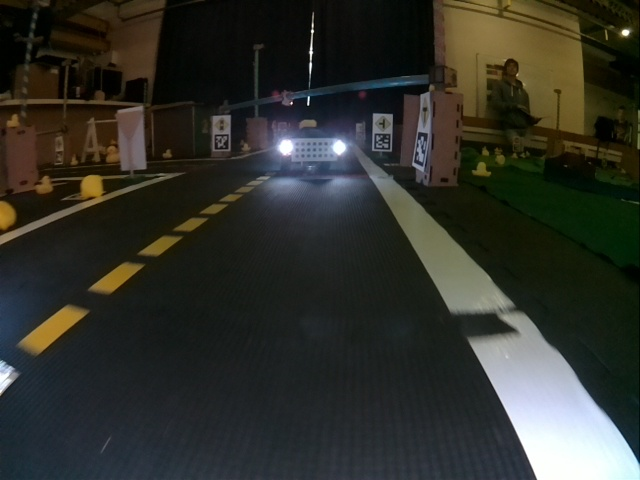Duckie: (81, 175, 102, 197), (1, 201, 16, 231), (471, 161, 492, 176), (35, 175, 50, 192), (163, 148, 173, 158)
Duckiebot: (279, 130, 344, 169)
Intersection sign: (421, 98, 430, 129), (375, 114, 391, 129)
QR code: (414, 132, 429, 165), (374, 133, 391, 150), (213, 134, 229, 149)
Signal sign: (213, 118, 229, 131)
